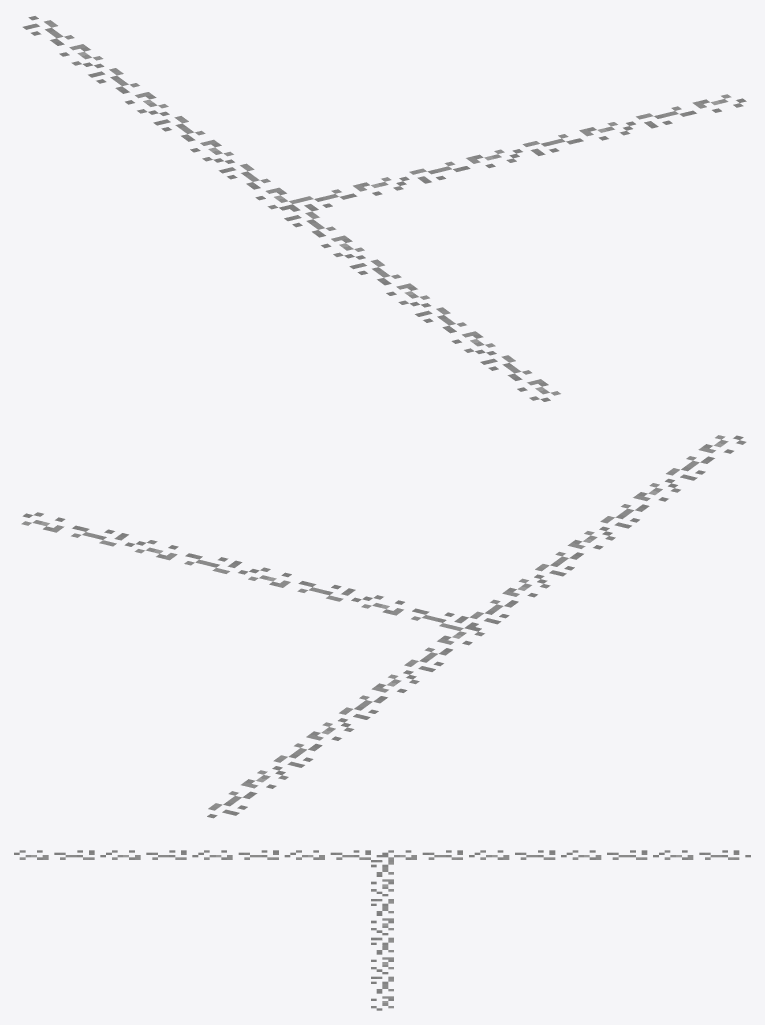
Rendered from block_tripwire_nse.gltf.
The picture shows the model from 3 angles, top to bottom: view 1: azimuth 30°, elevation 25°; view 2: azimuth 150°, elevation 25°; view 3: azimuth 270°, elevation 25°; orthographic projection. The views are drawn at different scales.
Visible parts, largest first — view 1: cube (×6); view 2: cube (×6); view 3: cube (×6).
Part boxes in pixels (bbox=[...]): cube (×6): bbox=[22, 16, 746, 401]; cube (×6): bbox=[21, 435, 746, 818]; cube (×6): bbox=[14, 850, 750, 1010].
Size of the model in its own units: 0.5156 by 6.25e-05 by 1.
1 material, 1 textured.
